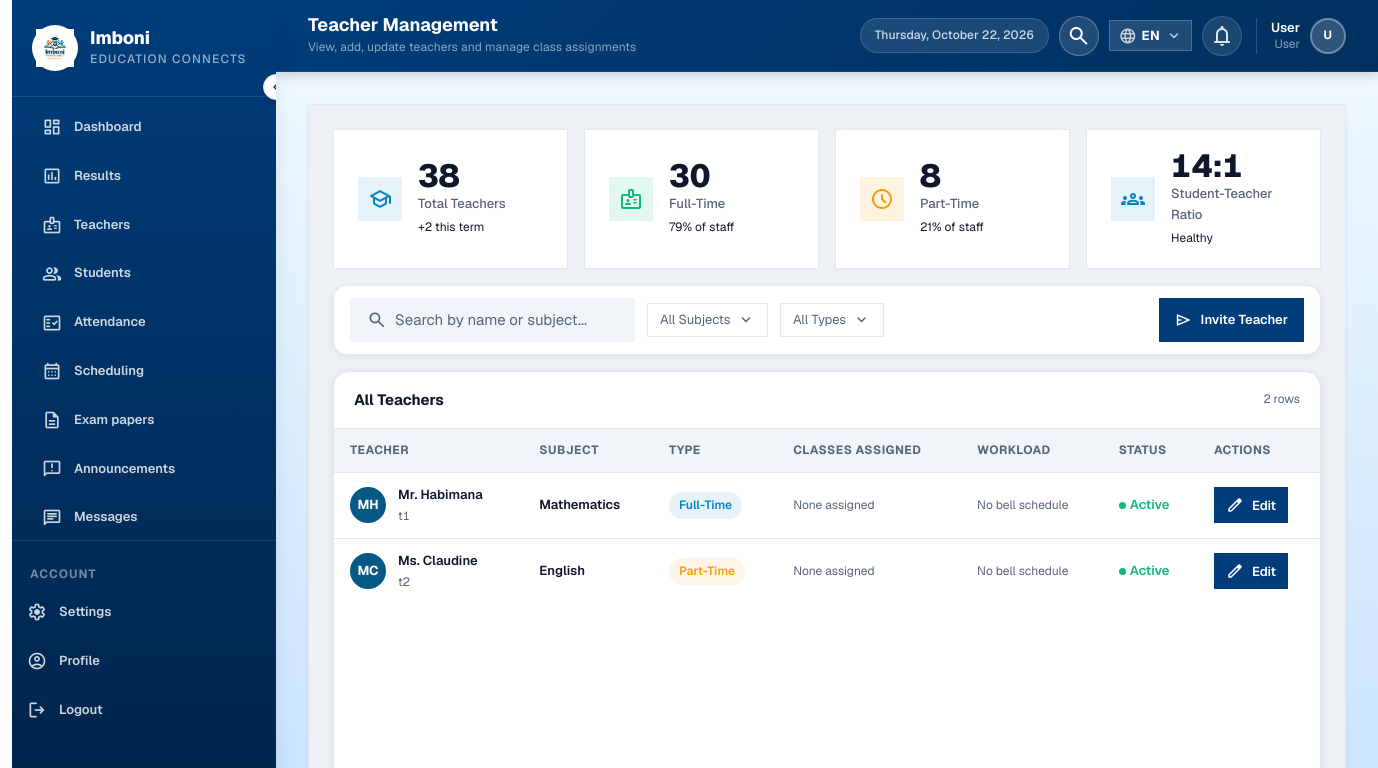
Test: DosTeachers › filters the table by search text
This screenshot has width=1378, height=768.
Expected: the text "Mr. Habimana" is shown, [398, 485, 483, 506]
Type "Claudine" into the search field with placeholder "Search by name or subject..." at (506, 320), box [395, 299, 618, 340]
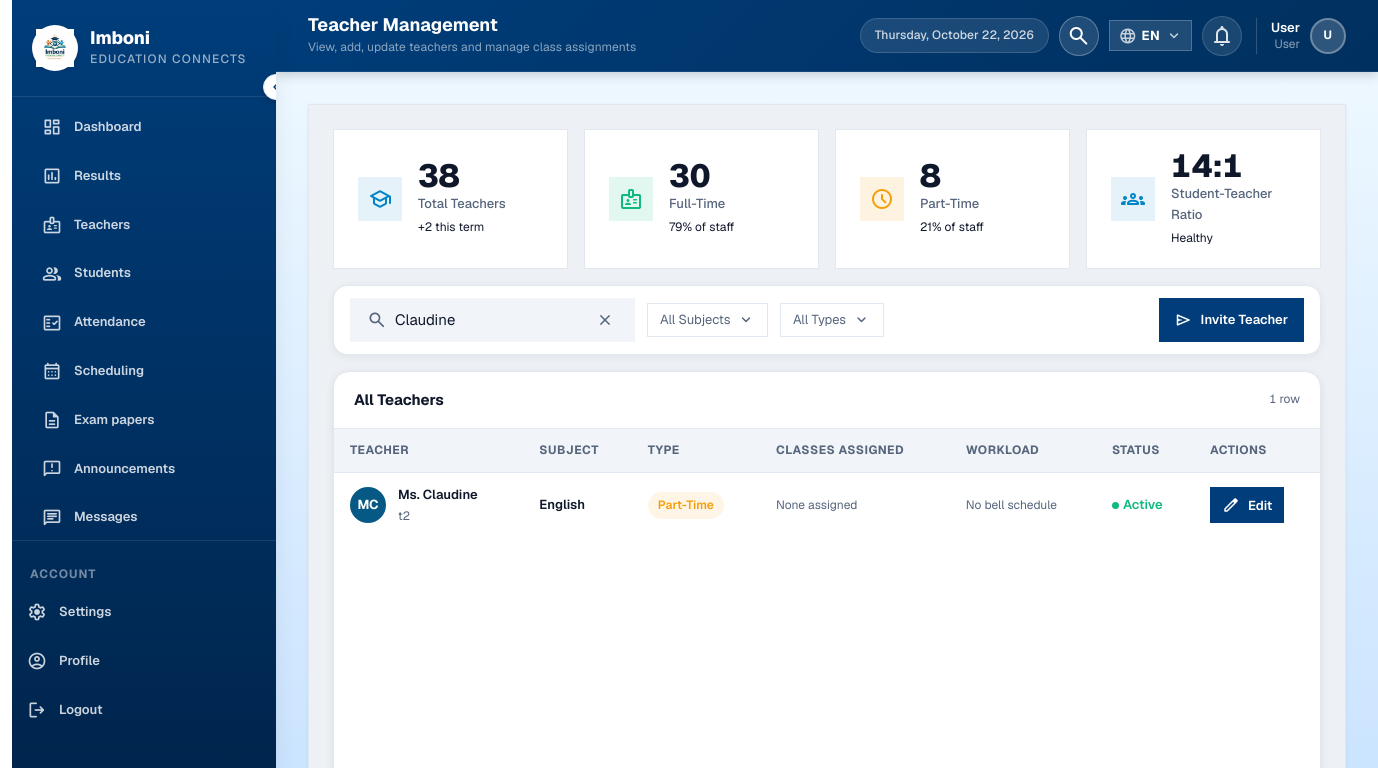
Expected: the text "Ms. Claudine" is shown, [398, 485, 478, 506]
Expected: the text "Mr. Habimana" is gone
